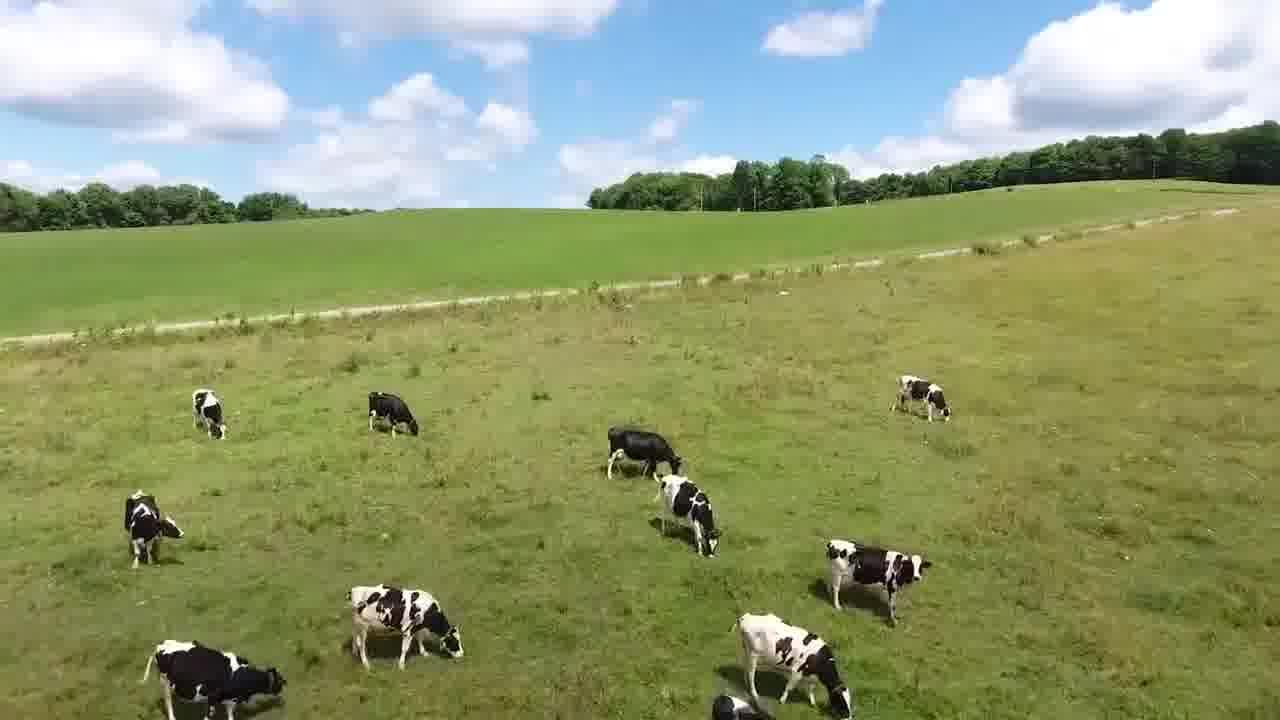cow: (726, 598, 863, 720), (142, 630, 291, 720), (820, 529, 933, 630), (346, 581, 470, 668), (648, 471, 727, 564), (121, 482, 193, 579), (599, 421, 687, 484), (888, 368, 957, 424), (364, 388, 427, 441), (188, 384, 235, 446)
